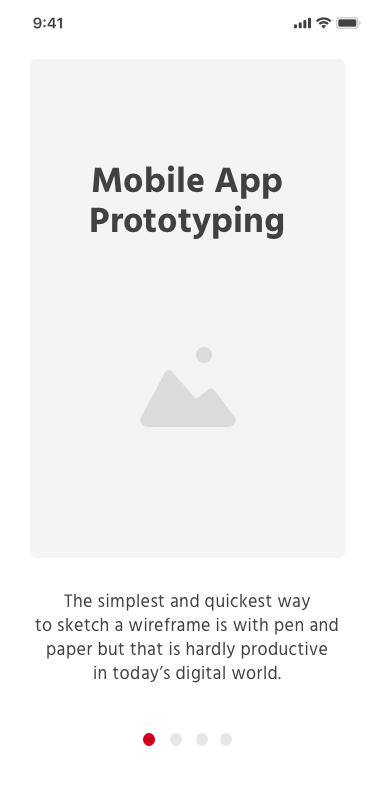Image: (31, 59, 346, 559)
PageIndicator: (143, 732, 233, 747)
Text: (35, 592, 339, 683), (91, 166, 285, 243)
UpperTaskBar: (33, 17, 362, 31)
